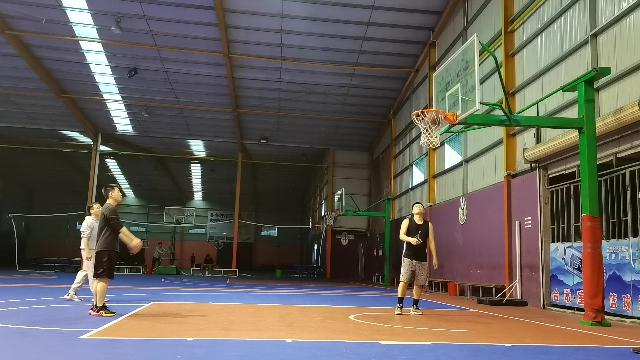basket: (409, 108, 445, 148), (324, 210, 334, 224)
goal: (426, 110, 442, 126)
